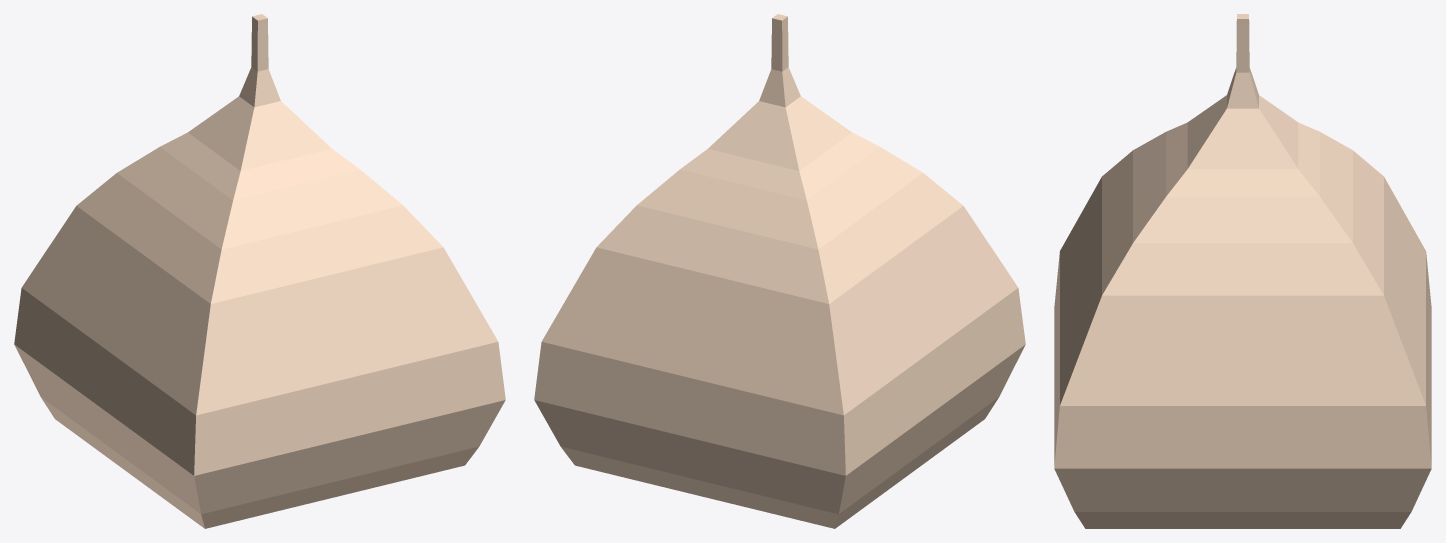
Rendered from Abstract_Modular_Roof_1.0_Beige_01.fbx.
The picture shows the model from 3 angles, left to right: view 1: azimuth 30°, elevation 25°; view 2: azimuth 150°, elevation 25°; view 3: azimuth 270°, elevation 25°; orthographic projection. The views are drawn at different scales.
Visible parts, largest first — view 1: Abstract_Modular_Roof_1.0_Beige_01; view 2: Abstract_Modular_Roof_1.0_Beige_01; view 3: Abstract_Modular_Roof_1.0_Beige_01.
Part boxes in pixels (box(x1,y1,x2,y2)): Abstract_Modular_Roof_1.0_Beige_01: box(14, 14, 505, 528); Abstract_Modular_Roof_1.0_Beige_01: box(534, 14, 1025, 528); Abstract_Modular_Roof_1.0_Beige_01: box(1054, 14, 1431, 528).
Bounding box in the file's own units: 3595 × 4684 × 3595.
